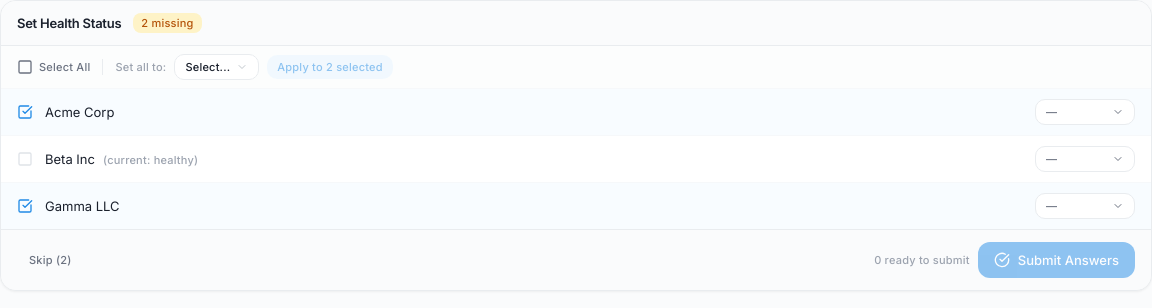
it: BatchEnrichmentPanel › Bulk Value Application › 6. opens bulk dropdown on click
This screenshot has width=1152, height=308.
What coordinates should you click on to do the following:
click the button "Select..."
I would click on:
 (217, 67)
Its box is [174,54,259,80].
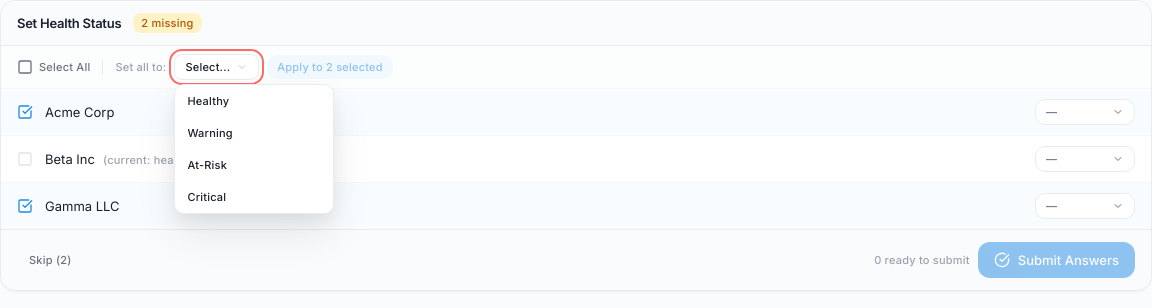
Now the button "Healthy" is shown, box [175,85,333,117]
Now the button "Warning" is shown, box [175,117,333,149]
